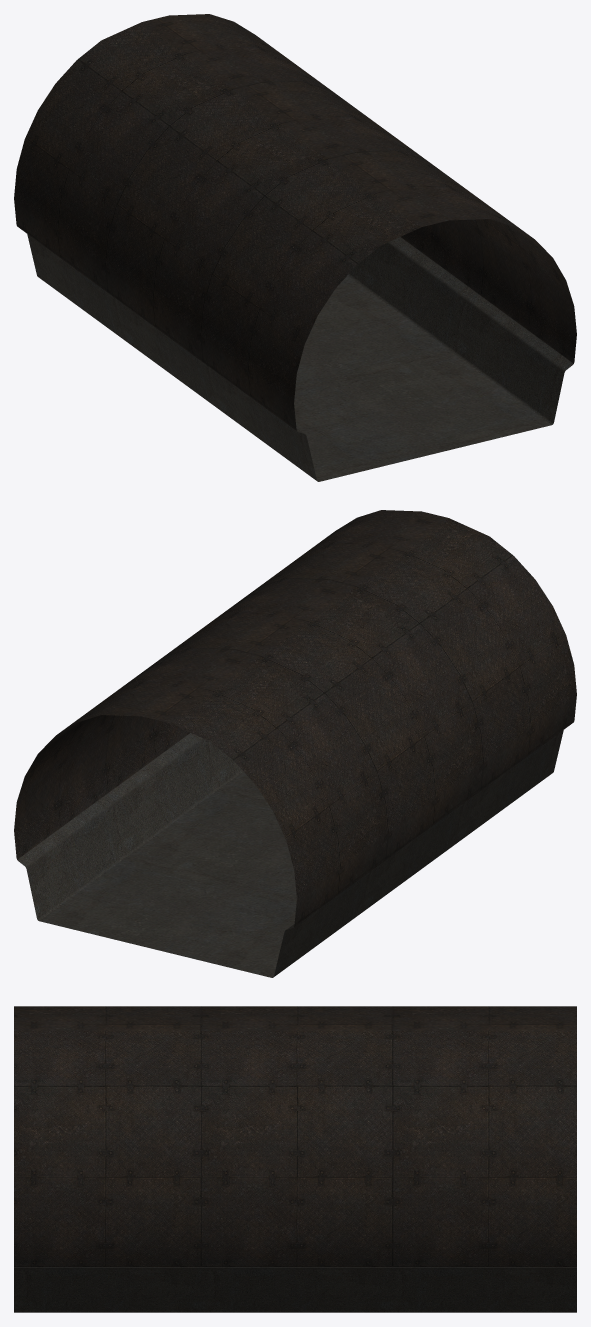
Rendered from tunnel_straight.obj.
3 views of the same model, one above another, from view 1: azimuth 30°, elevation 25°; view 2: azimuth 150°, elevation 25°; view 3: azimuth 270°, elevation 25° (orthographic).
Visible parts, largest first — view 1: tunnel_straight; view 2: tunnel_straight; view 3: tunnel_straight.
Boxes of the visible parts, bbox=[...] form: tunnel_straight: bbox=[14, 14, 576, 481]; tunnel_straight: bbox=[14, 510, 576, 977]; tunnel_straight: bbox=[14, 1006, 576, 1312].
Bounding box in the file's own units: 3.5 × 2.72 × 6.
